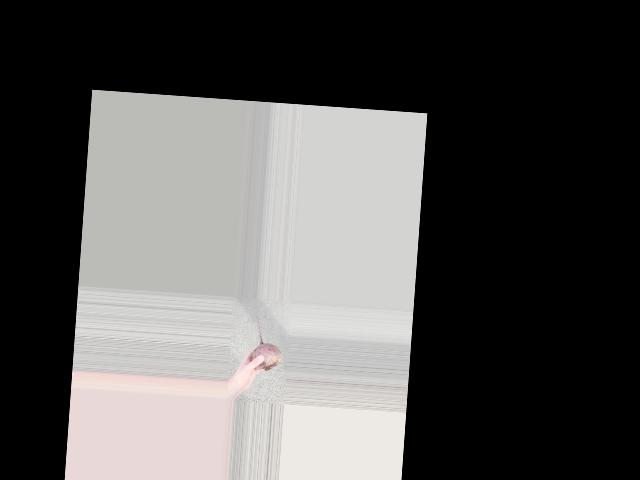beet: (251, 315, 285, 371)
